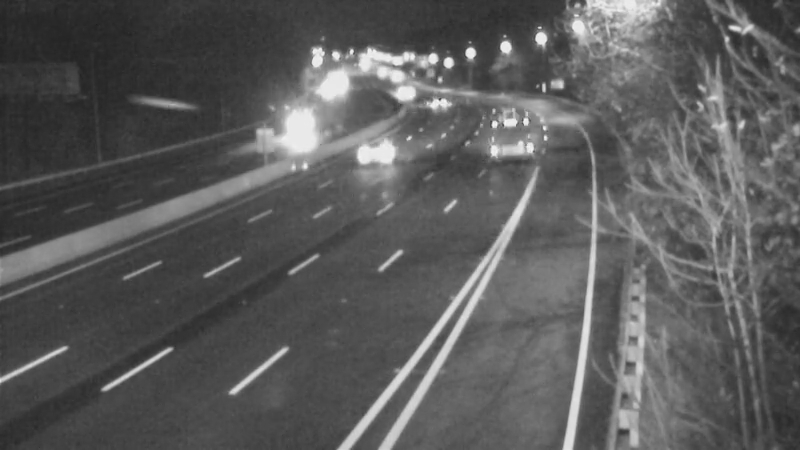vehicle: (373, 65, 423, 115), (408, 75, 458, 125), (486, 103, 536, 153), (351, 123, 401, 173), (267, 100, 317, 150)
